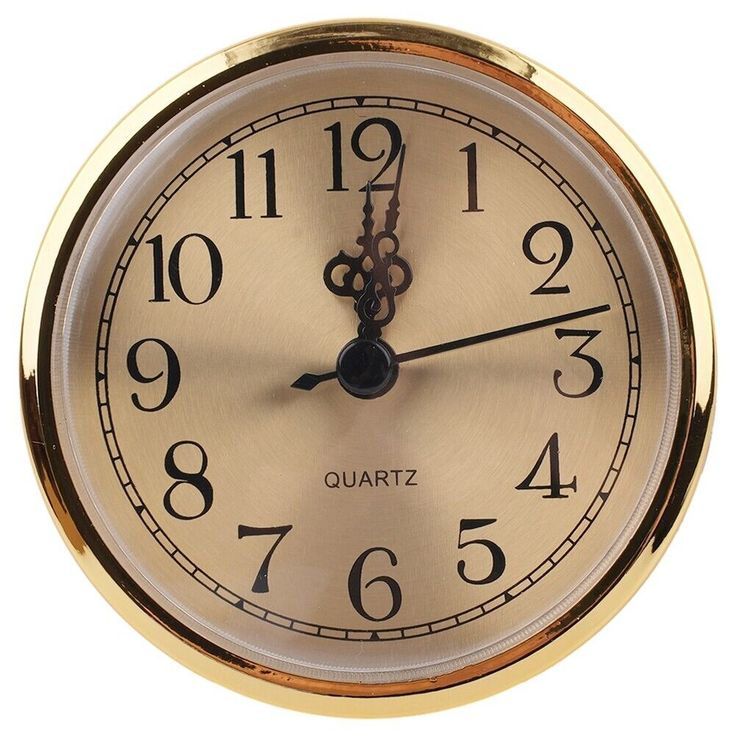clock: (36, 25, 736, 729)
